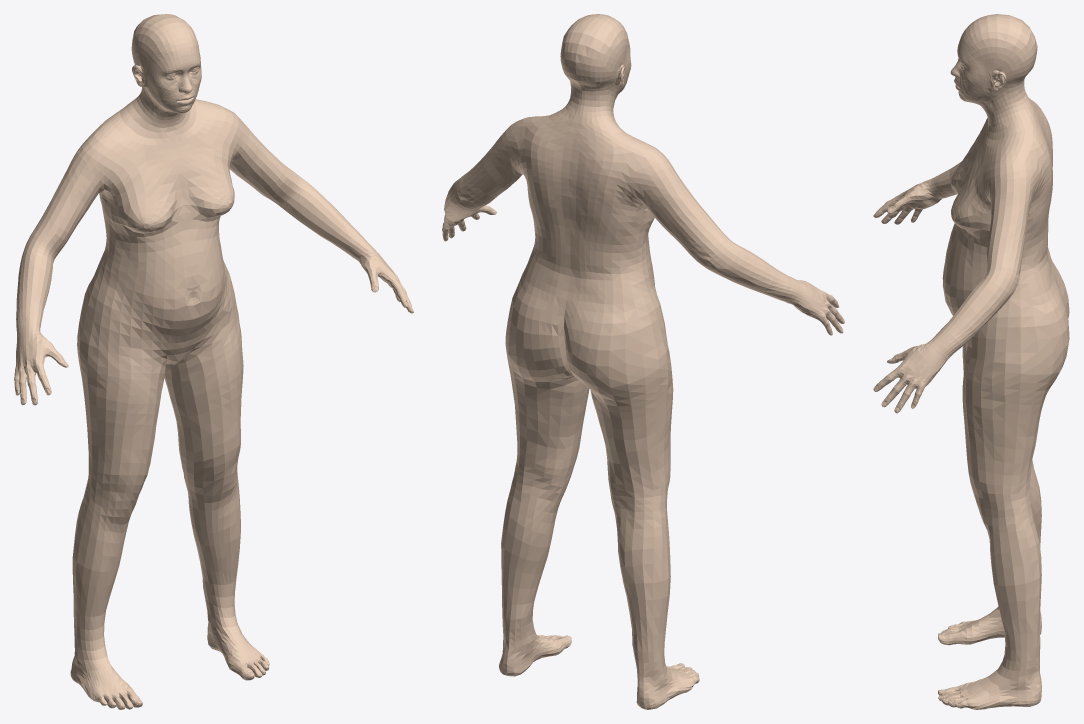
Rendered from female-mature-max-toned.glb.
The picture shows the model from 3 angles, left to right: view 1: azimuth 30°, elevation 25°; view 2: azimuth 150°, elevation 25°; view 3: azimuth 270°, elevation 25°; orthographic projection.
Parts seen in each view (by area): view 1: world; view 2: world; view 3: world.
Boxes of the visible parts, x1,y1,x2,y2 form: world: [14, 14, 413, 709]; world: [442, 14, 844, 709]; world: [873, 14, 1069, 709].
Size of the model in its own units: 1.12 by 1.81 by 0.4909.
